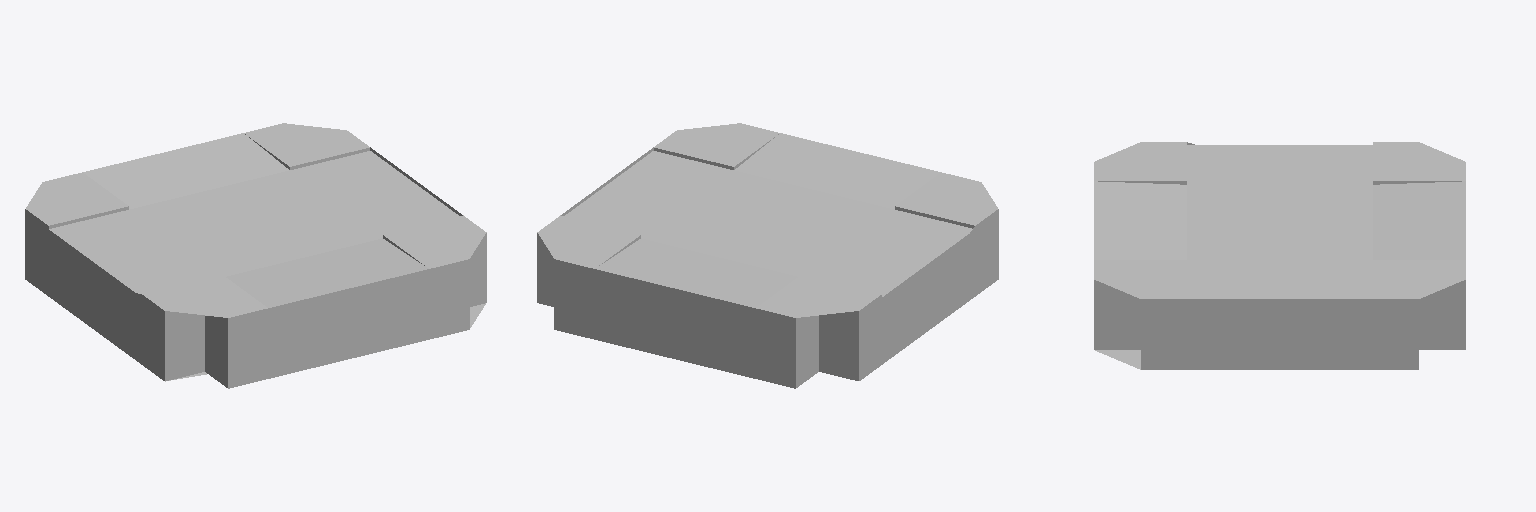
Rendered from roadTile_137.obj.
3 renders of one model, left to right at view 1: azimuth 30°, elevation 25°; view 2: azimuth 150°, elevation 25°; view 3: azimuth 270°, elevation 25°, orthographic.
Visible parts, largest first — view 1: Mesh1 Group1 Model; view 2: Mesh1 Group1 Model; view 3: Mesh1 Group1 Model.
Part boxes in pixels (left/top/right/bottom): Mesh1 Group1 Model: left=25, top=123, right=486, bottom=388; Mesh1 Group1 Model: left=537, top=123, right=998, bottom=388; Mesh1 Group1 Model: left=1094, top=142, right=1465, bottom=369.
Bounding box in the file's own units: 3 × 0.63 × 3.